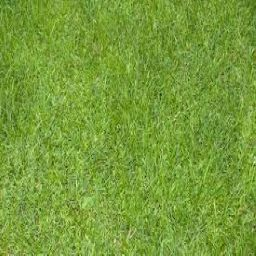grass: (4, 5, 248, 248)
